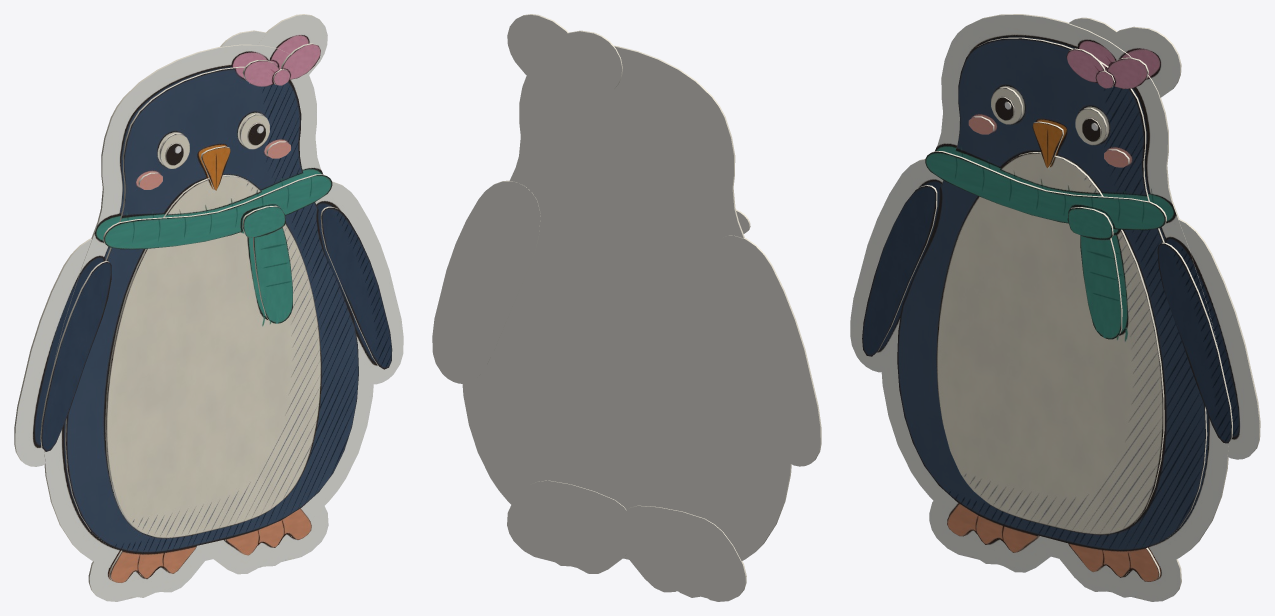
The model's file is pebble-CmVNo8vQ.glb.
The picture shows the model from 3 angles, left to right: view 1: azimuth 30°, elevation 25°; view 2: azimuth 150°, elevation 25°; view 3: azimuth 330°, elevation 25°; orthographic projection. The views are drawn at different scales.
Visible parts, largest first — view 1: pebble.001; view 2: pebble.001; view 3: pebble.001.
Part boxes in pixels (bbox=[...]): pebble.001: bbox=[14, 14, 403, 601]; pebble.001: bbox=[432, 14, 821, 601]; pebble.001: bbox=[850, 14, 1260, 601].
Bounding box in the file's own units: 0.6993 × 0.9395 × 0.0439.
Materials: 3 (1 with a texture image).
